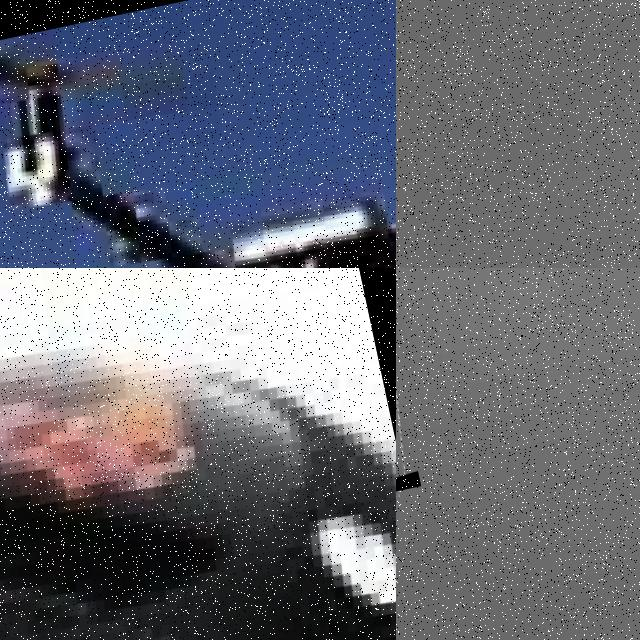0: (0, 0, 396, 268)
drone: (0, 268, 396, 640)
